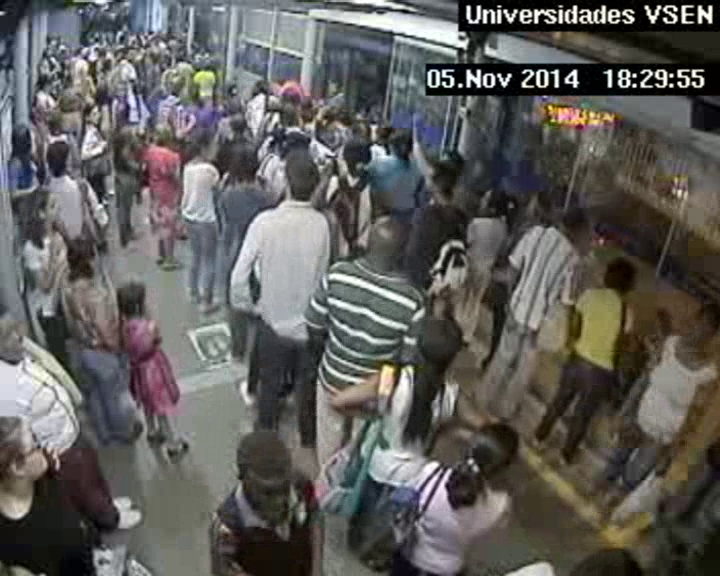person: (232, 428, 311, 526), (1, 419, 56, 495), (413, 317, 466, 377), (469, 423, 521, 480), (370, 218, 414, 266), (285, 153, 327, 195), (1, 311, 36, 360), (67, 236, 104, 277), (28, 190, 63, 227), (685, 309, 720, 346), (428, 160, 462, 198), (115, 281, 152, 315), (605, 257, 640, 289), (481, 188, 512, 224), (229, 143, 260, 177), (343, 138, 375, 170), (193, 127, 222, 160), (559, 205, 586, 237), (387, 129, 414, 156), (284, 131, 310, 158), (45, 141, 70, 169), (440, 147, 464, 174), (652, 308, 676, 334), (346, 121, 372, 144), (280, 101, 301, 126), (12, 127, 34, 150), (154, 125, 176, 147), (374, 122, 394, 146), (167, 74, 187, 96), (301, 95, 321, 114), (229, 117, 247, 138), (83, 105, 102, 124), (115, 81, 133, 100), (115, 111, 133, 130), (254, 79, 270, 95), (229, 100, 244, 116), (94, 89, 108, 104), (47, 121, 61, 135), (342, 115, 355, 128), (123, 48, 135, 61), (90, 61, 102, 74), (228, 84, 240, 96), (161, 56, 173, 68), (63, 76, 74, 89), (168, 37, 179, 48), (43, 81, 53, 93), (132, 38, 142, 48), (97, 50, 106, 61), (76, 48, 85, 58), (103, 61, 112, 71), (136, 25, 145, 35), (144, 46, 153, 56), (43, 49, 52, 58), (200, 62, 209, 71), (178, 50, 187, 59), (62, 59, 71, 68), (150, 41, 159, 49), (198, 46, 206, 55), (87, 22, 95, 30), (120, 23, 128, 31), (119, 35, 127, 43), (106, 44, 114, 52), (94, 48, 101, 57), (58, 36, 65, 44), (50, 33, 57, 41), (96, 24, 103, 31), (95, 37, 101, 43), (107, 26, 113, 32)
